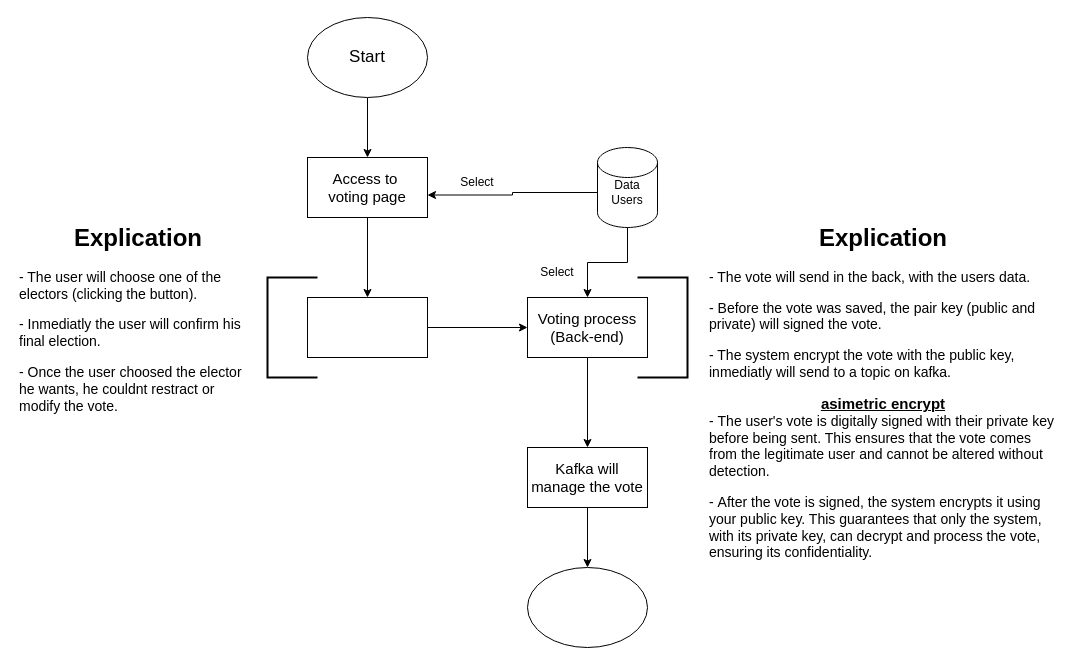
The diagram is 1074 pixels wide and 665 high, and some of its shapes have lost their labels. The shapes that lost their labels are listed below. From the top down, each one's box as (x1, y1, x2, y2) in pixels, then its label:
(306, 296, 428, 358): Voting process (Front-end)
(526, 566, 648, 648): End
